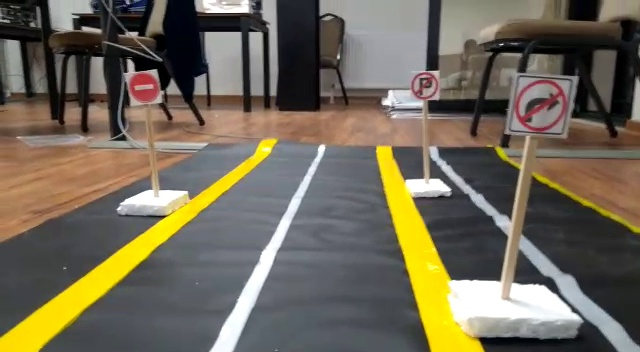girisi_olmayan_yol: (129, 70, 161, 102)
park_yapilmaz: (408, 70, 442, 100)
saga_donulmez: (515, 75, 571, 138)
